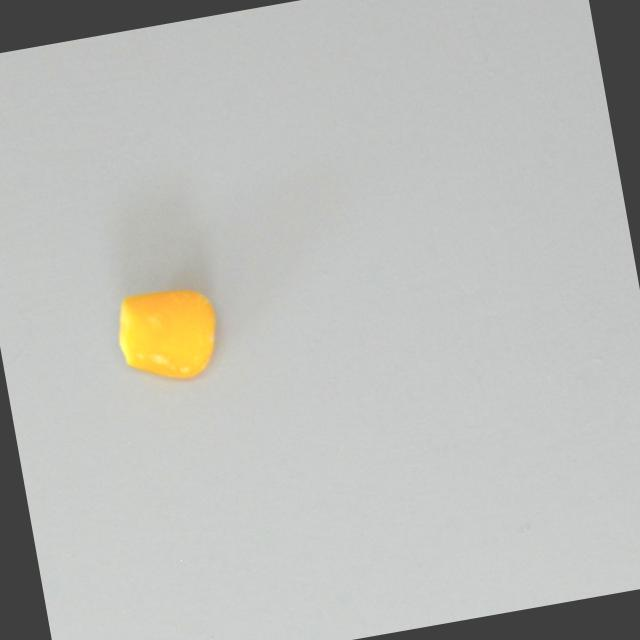dañado: (101, 270, 230, 390)
